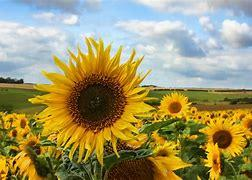sunflowers: (31, 33, 155, 149)
